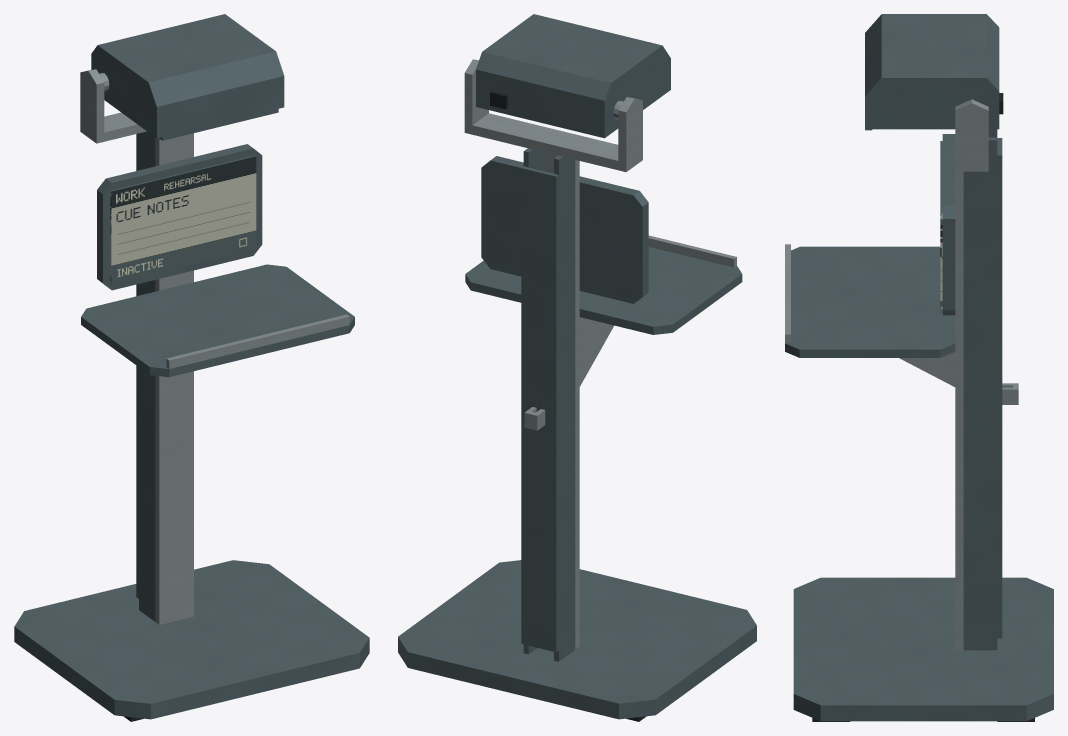
File: AST-CUL-004.glb
3 renders of one model, left to right at view 1: azimuth 30°, elevation 25°; view 2: azimuth 150°, elevation 25°; view 3: azimuth 270°, elevation 25°, orthographic. The views are drawn at different scales.
Parts seen in each view (by area): view 1: AST-CUL-004__static__staff_bluegrey_paint, AST-CUL-004__LIGHT_AIM_X__staff_bluegrey_paint, AST-CUL-004__static__staff_zinc, AST-CUL-004__static__original_rehearsal_notes, AST-CUL-004__REAR_COVER_REMOVE__staff_bluegrey_paint; view 2: AST-CUL-004__static__staff_bluegrey_paint, AST-CUL-004__REAR_COVER_REMOVE__staff_bluegrey_paint, AST-CUL-004__LIGHT_AIM_X__staff_bluegrey_paint, AST-CUL-004__static__staff_zinc; view 3: AST-CUL-004__static__staff_bluegrey_paint, AST-CUL-004__LIGHT_AIM_X__staff_bluegrey_paint, AST-CUL-004__static__staff_zinc, AST-CUL-004__REAR_COVER_REMOVE__staff_bluegrey_paint, AST-CUL-004__static__original_rehearsal_notes.
Boxes of the visible parts, x1,y1,x2,y2 form: AST-CUL-004__static__staff_bluegrey_paint: [14, 131, 369, 719]; AST-CUL-004__LIGHT_AIM_X__staff_bluegrey_paint: [91, 14, 284, 140]; AST-CUL-004__static__staff_zinc: [80, 69, 349, 624]; AST-CUL-004__static__original_rehearsal_notes: [110, 155, 256, 284]; AST-CUL-004__REAR_COVER_REMOVE__staff_bluegrey_paint: [136, 133, 138, 598]; AST-CUL-004__static__staff_bluegrey_paint: [398, 148, 756, 719]; AST-CUL-004__REAR_COVER_REMOVE__staff_bluegrey_paint: [521, 166, 558, 652]; AST-CUL-004__LIGHT_AIM_X__staff_bluegrey_paint: [476, 14, 670, 138]; AST-CUL-004__static__staff_zinc: [464, 59, 736, 649]; AST-CUL-004__static__staff_bluegrey_paint: [785, 129, 1053, 721]; AST-CUL-004__LIGHT_AIM_X__staff_bluegrey_paint: [865, 14, 999, 130]; AST-CUL-004__static__staff_zinc: [785, 99, 988, 650]; AST-CUL-004__REAR_COVER_REMOVE__staff_bluegrey_paint: [997, 138, 1002, 638]; AST-CUL-004__static__original_rehearsal_notes: [940, 141, 942, 308].
Bounding box in the file's own units: 0.72 × 1.62 × 0.64.
5 materials, 5 textured.
